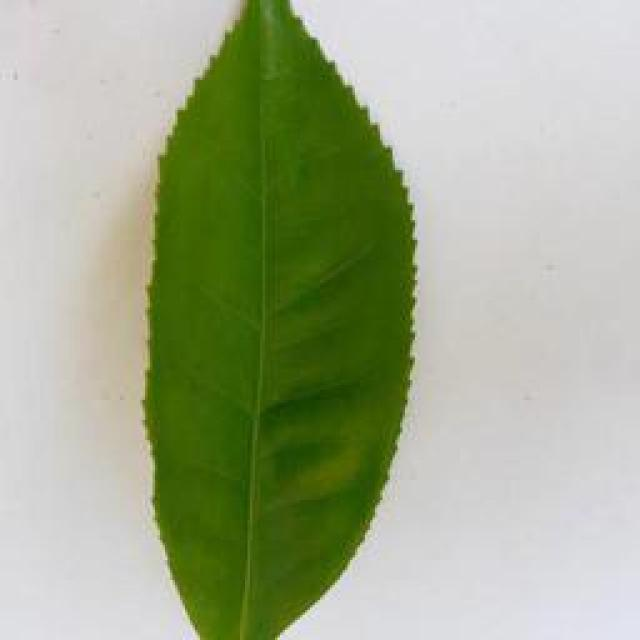Healthy: (135, 0, 445, 640)
